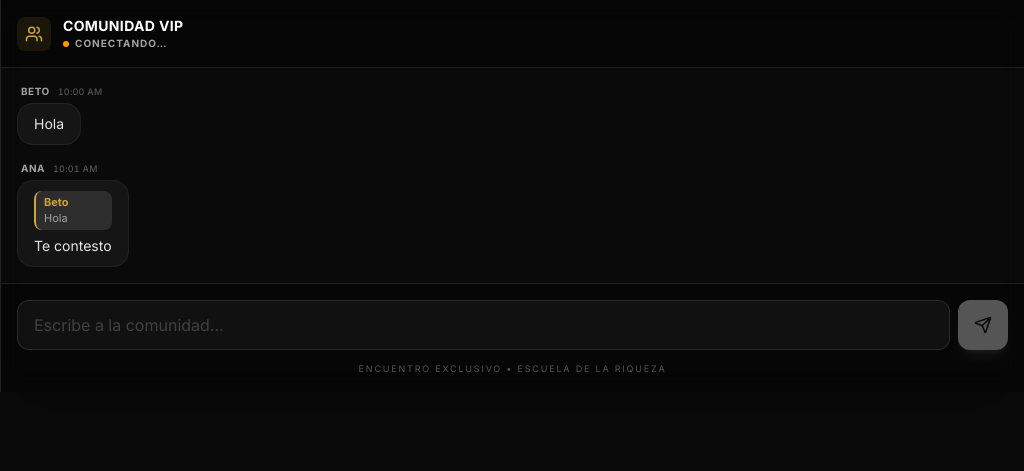
it: LiveChat — moderación y borrado en tiempo real (2026-10-09) › acción de moderar › en celular se llega desde el menú de acciones de la burbuja
Click the button "Beto Hola Te contesto" at (73, 224), box [17, 180, 128, 267]
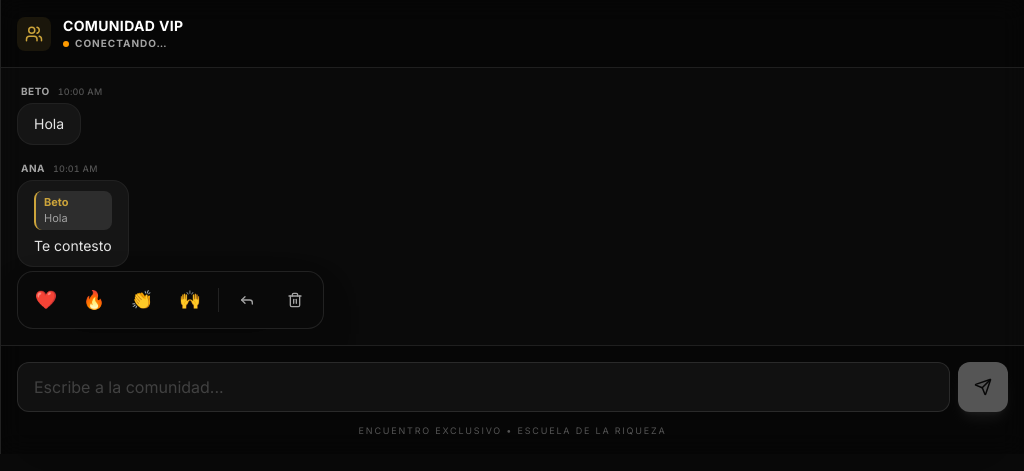
Expected: the menu item named "Eliminar mensaje" is shown, [273, 278, 317, 322]
